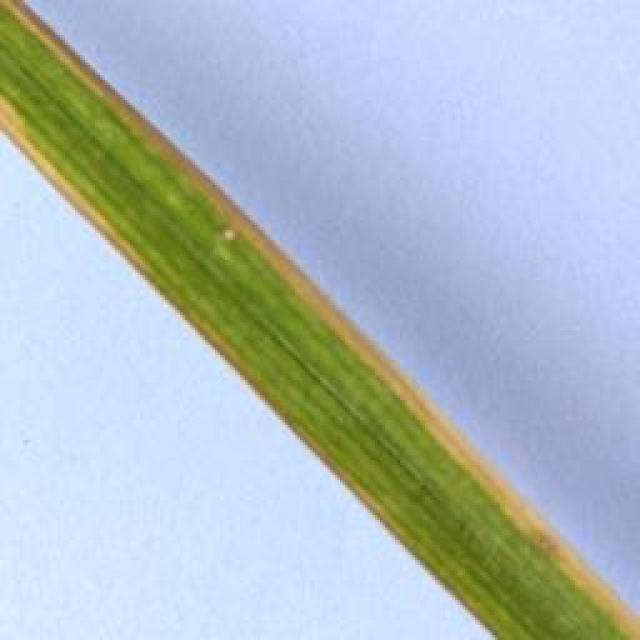Unhealthy: (0, 0, 640, 640), (0, 95, 157, 276)
